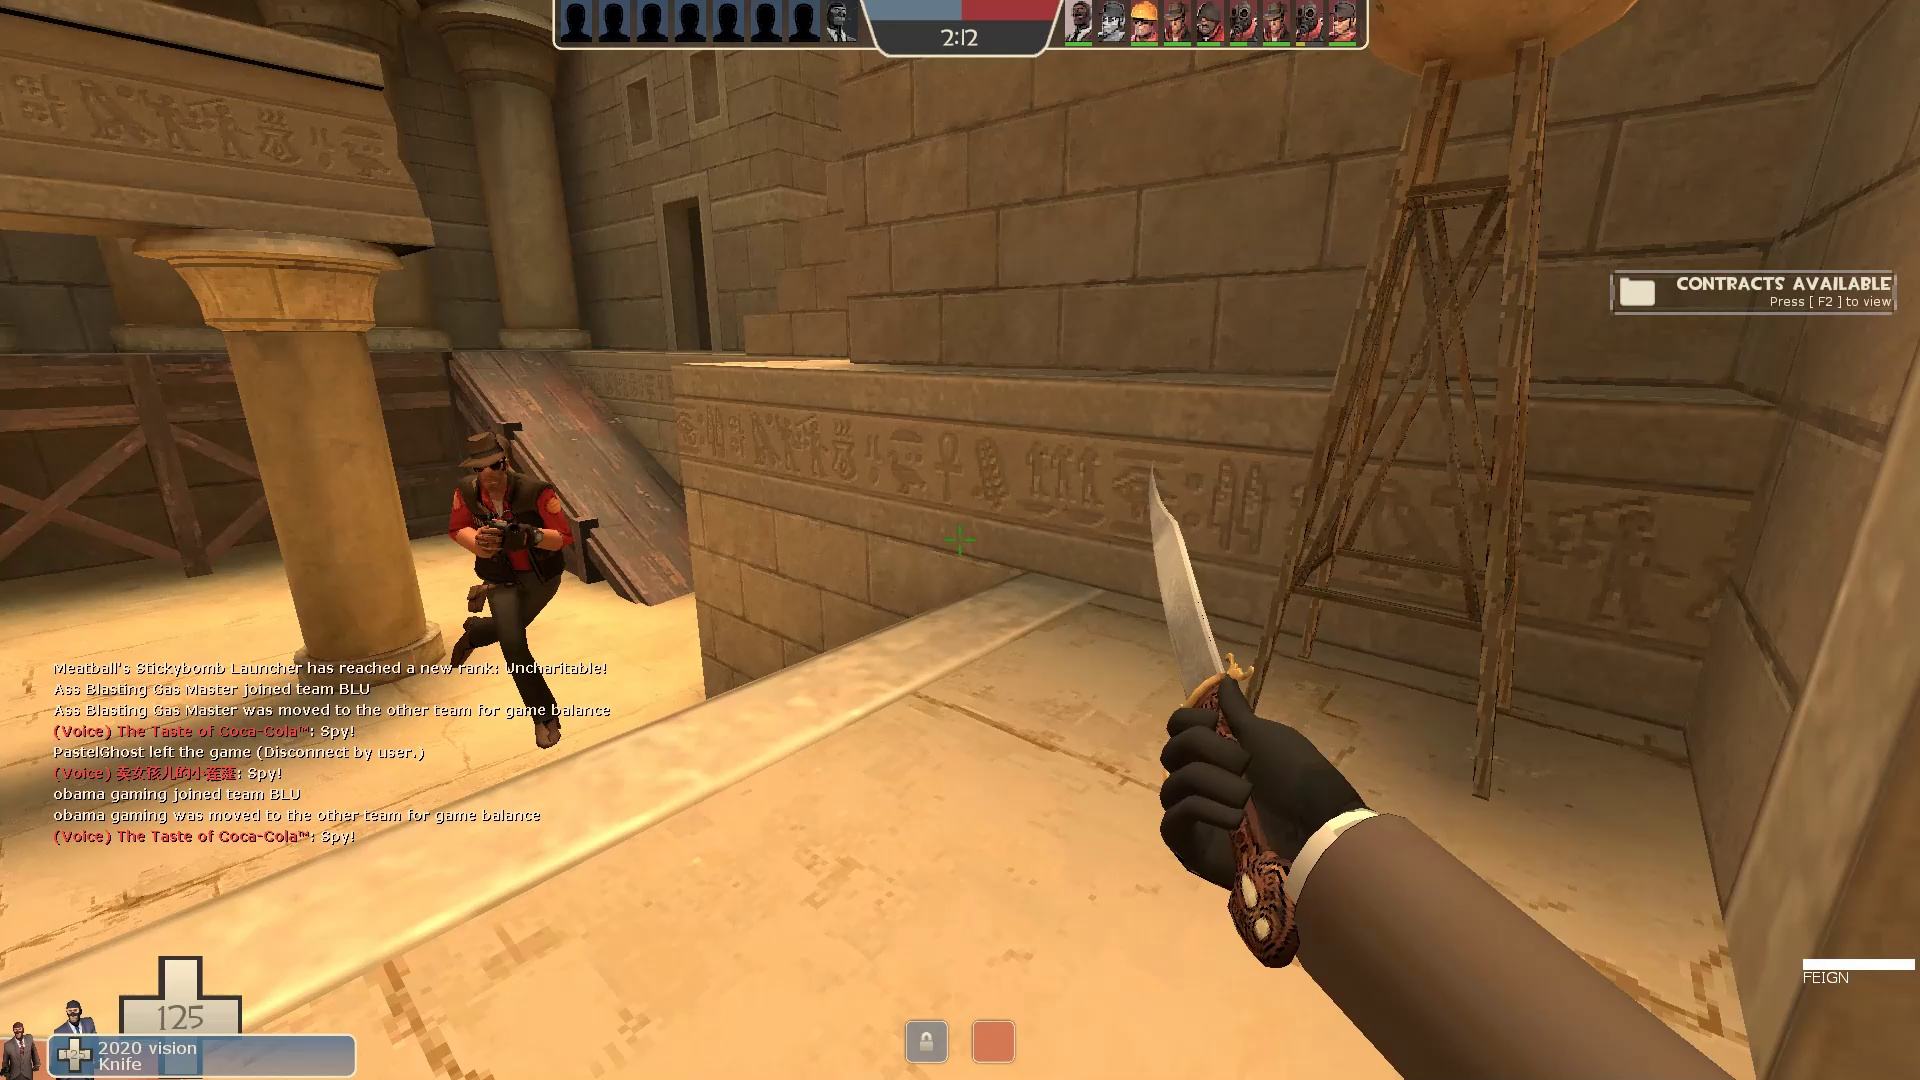red_sniper: (425, 419, 613, 765)
